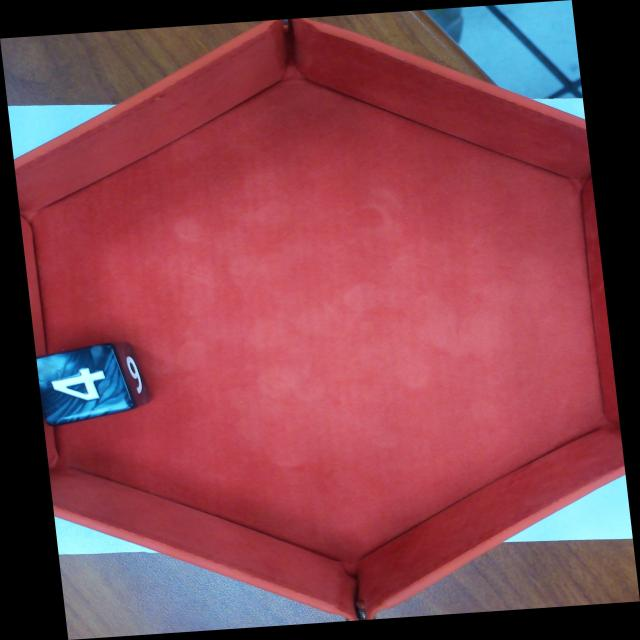dice: (35, 342, 132, 421)
